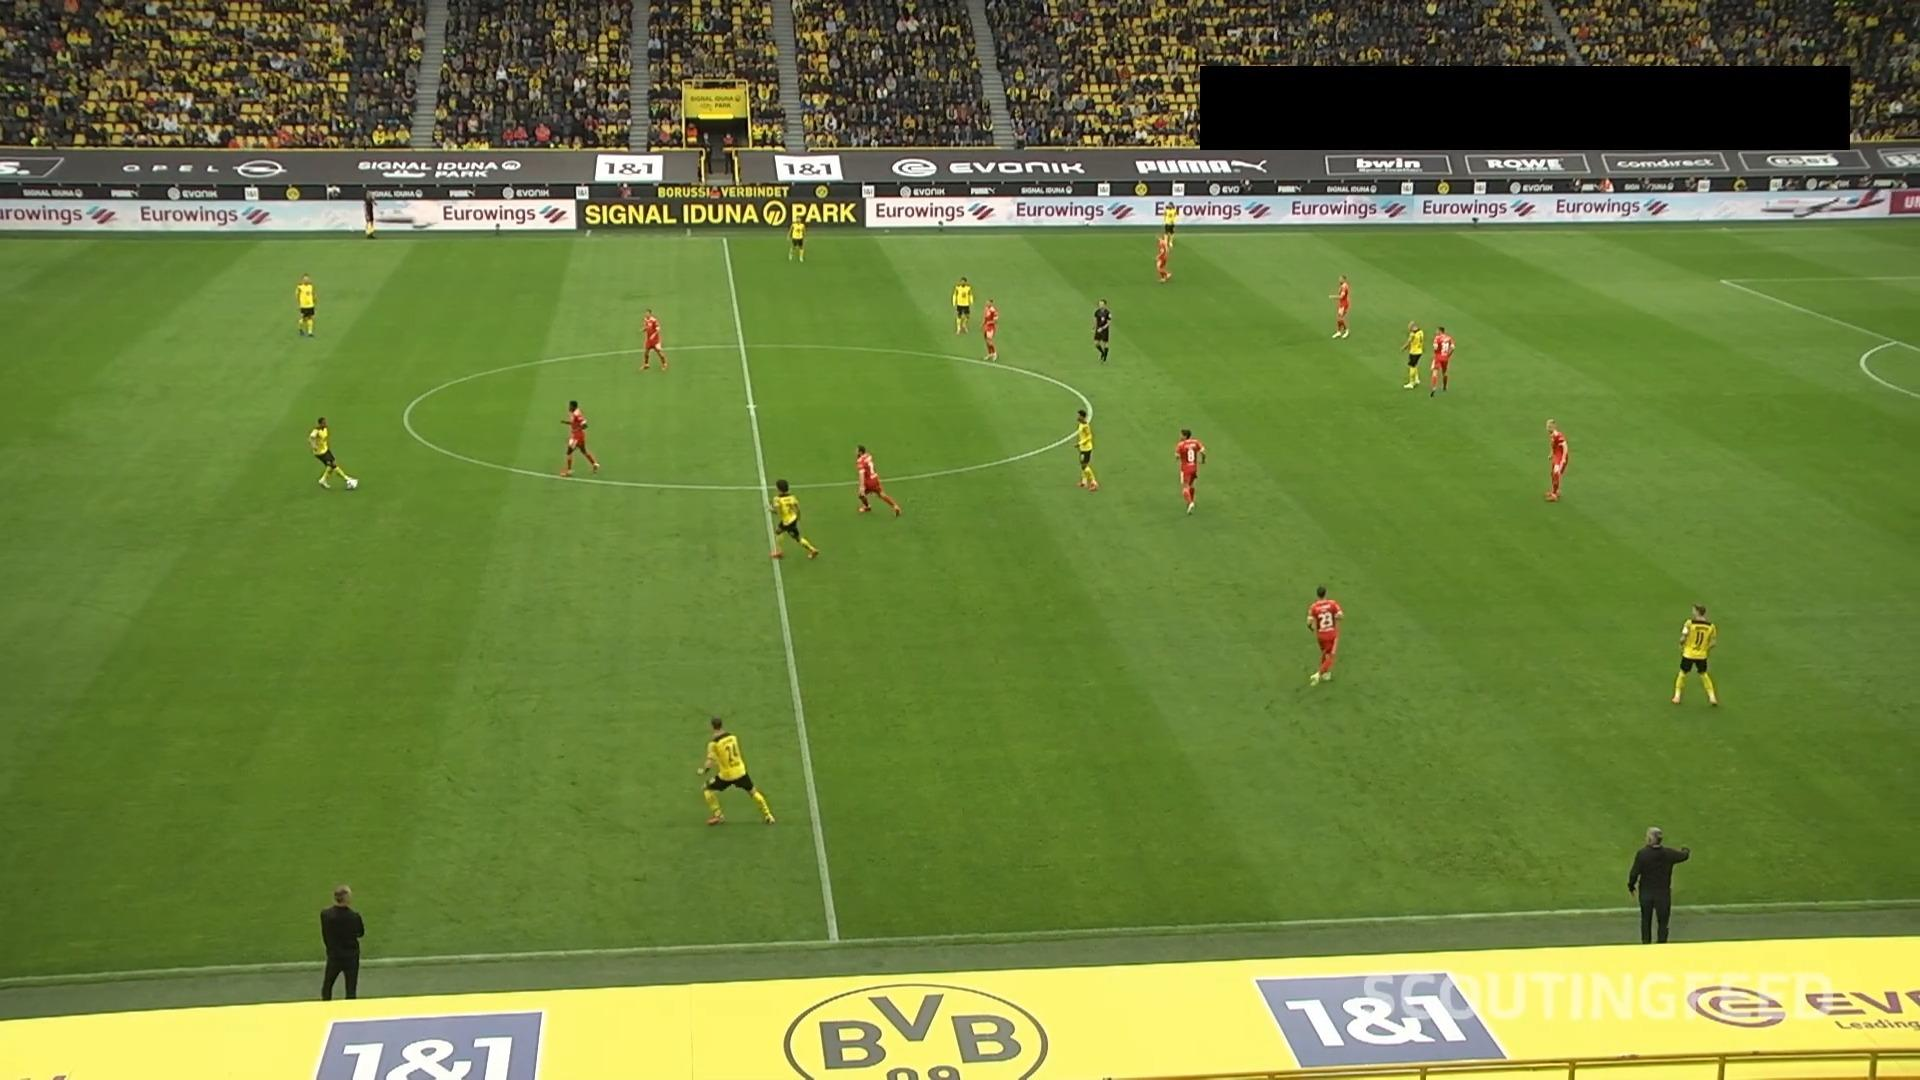ball: (344, 475, 360, 492)
